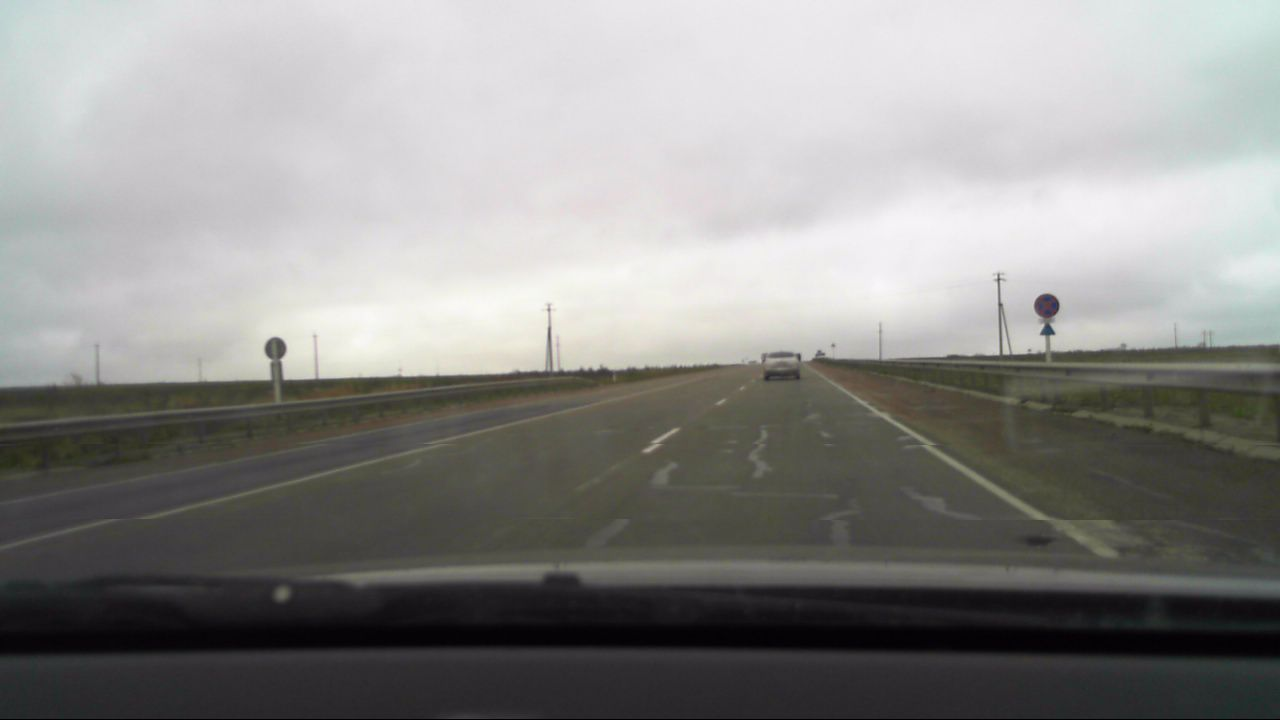No Parking: (1032, 291, 1062, 320)
